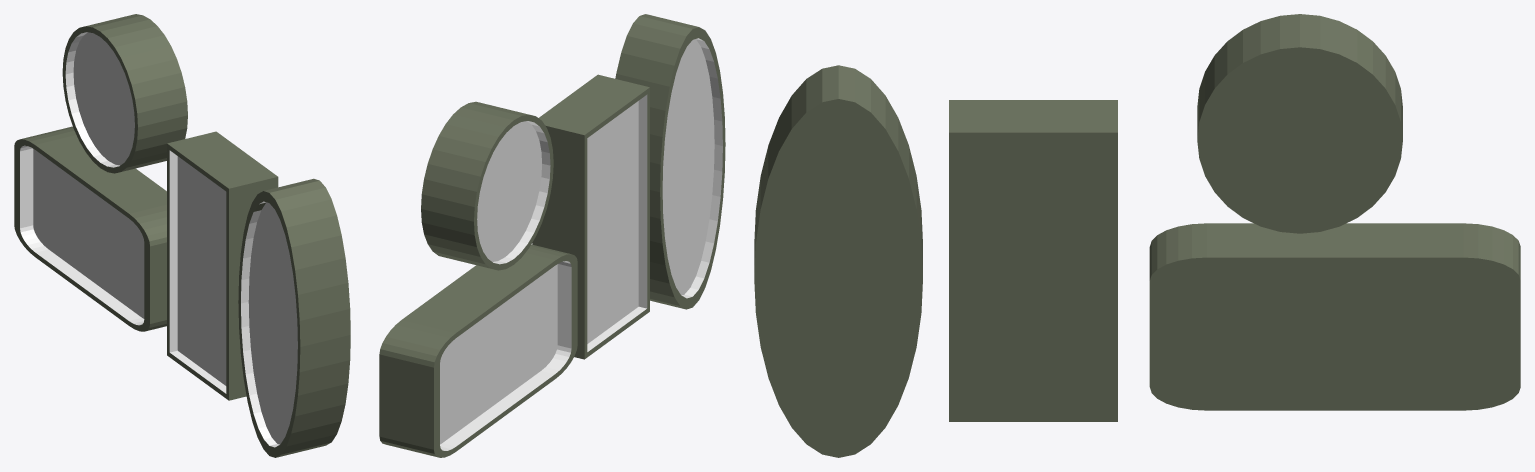
The model's file is Espelhos.fbx.
3 renders of one model, left to right at view 1: azimuth 30°, elevation 25°; view 2: azimuth 150°, elevation 25°; view 3: azimuth 270°, elevation 25°, orthographic. The views are drawn at different scales.
Visible parts, largest first — view 1: Moldura, Vidro; view 2: Moldura, Vidro; view 3: Moldura.
Part boxes in pixels (left/top/right/bottom): Moldura: left=14, top=14, right=350, bottom=457; Vidro: left=33, top=32, right=297, bottom=444; Moldura: left=379, top=14, right=725, bottom=457; Vidro: left=440, top=39, right=714, bottom=444; Moldura: left=754, top=14, right=1520, bottom=457.
Size of the model in its own units: 104 by 536 by 908.
